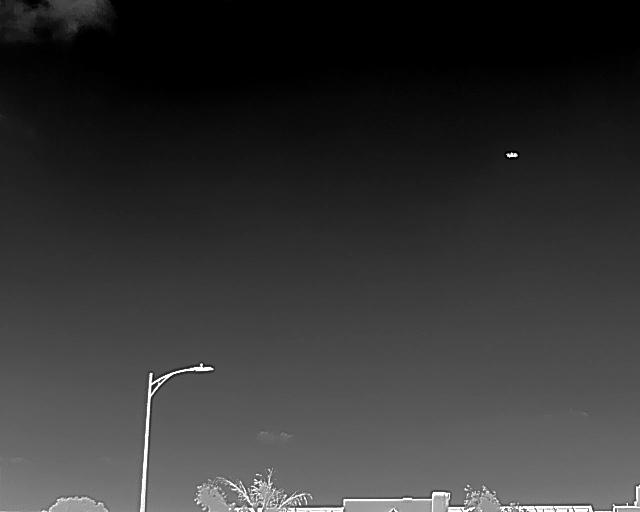fpv-drone: (505, 151, 519, 159)
